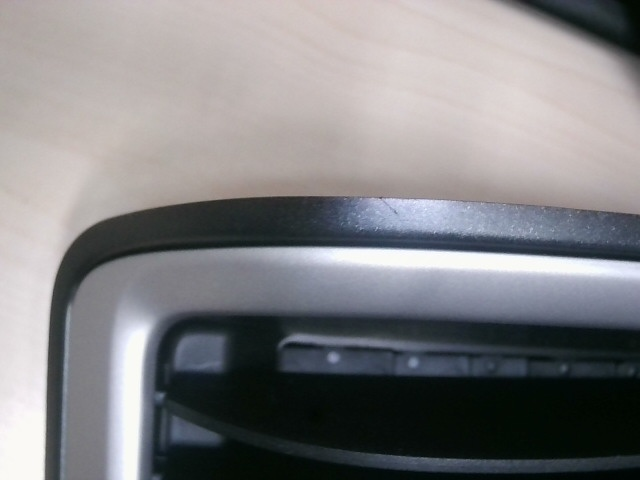NG: (375, 192, 407, 226)
